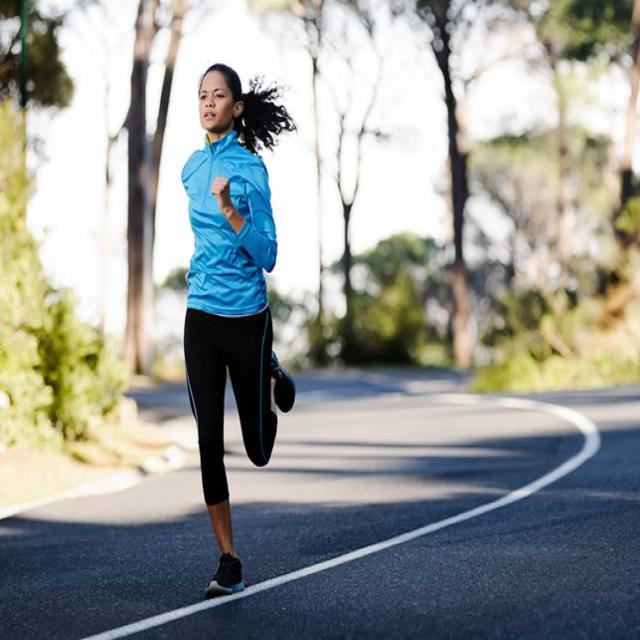running: (179, 64, 297, 596)
